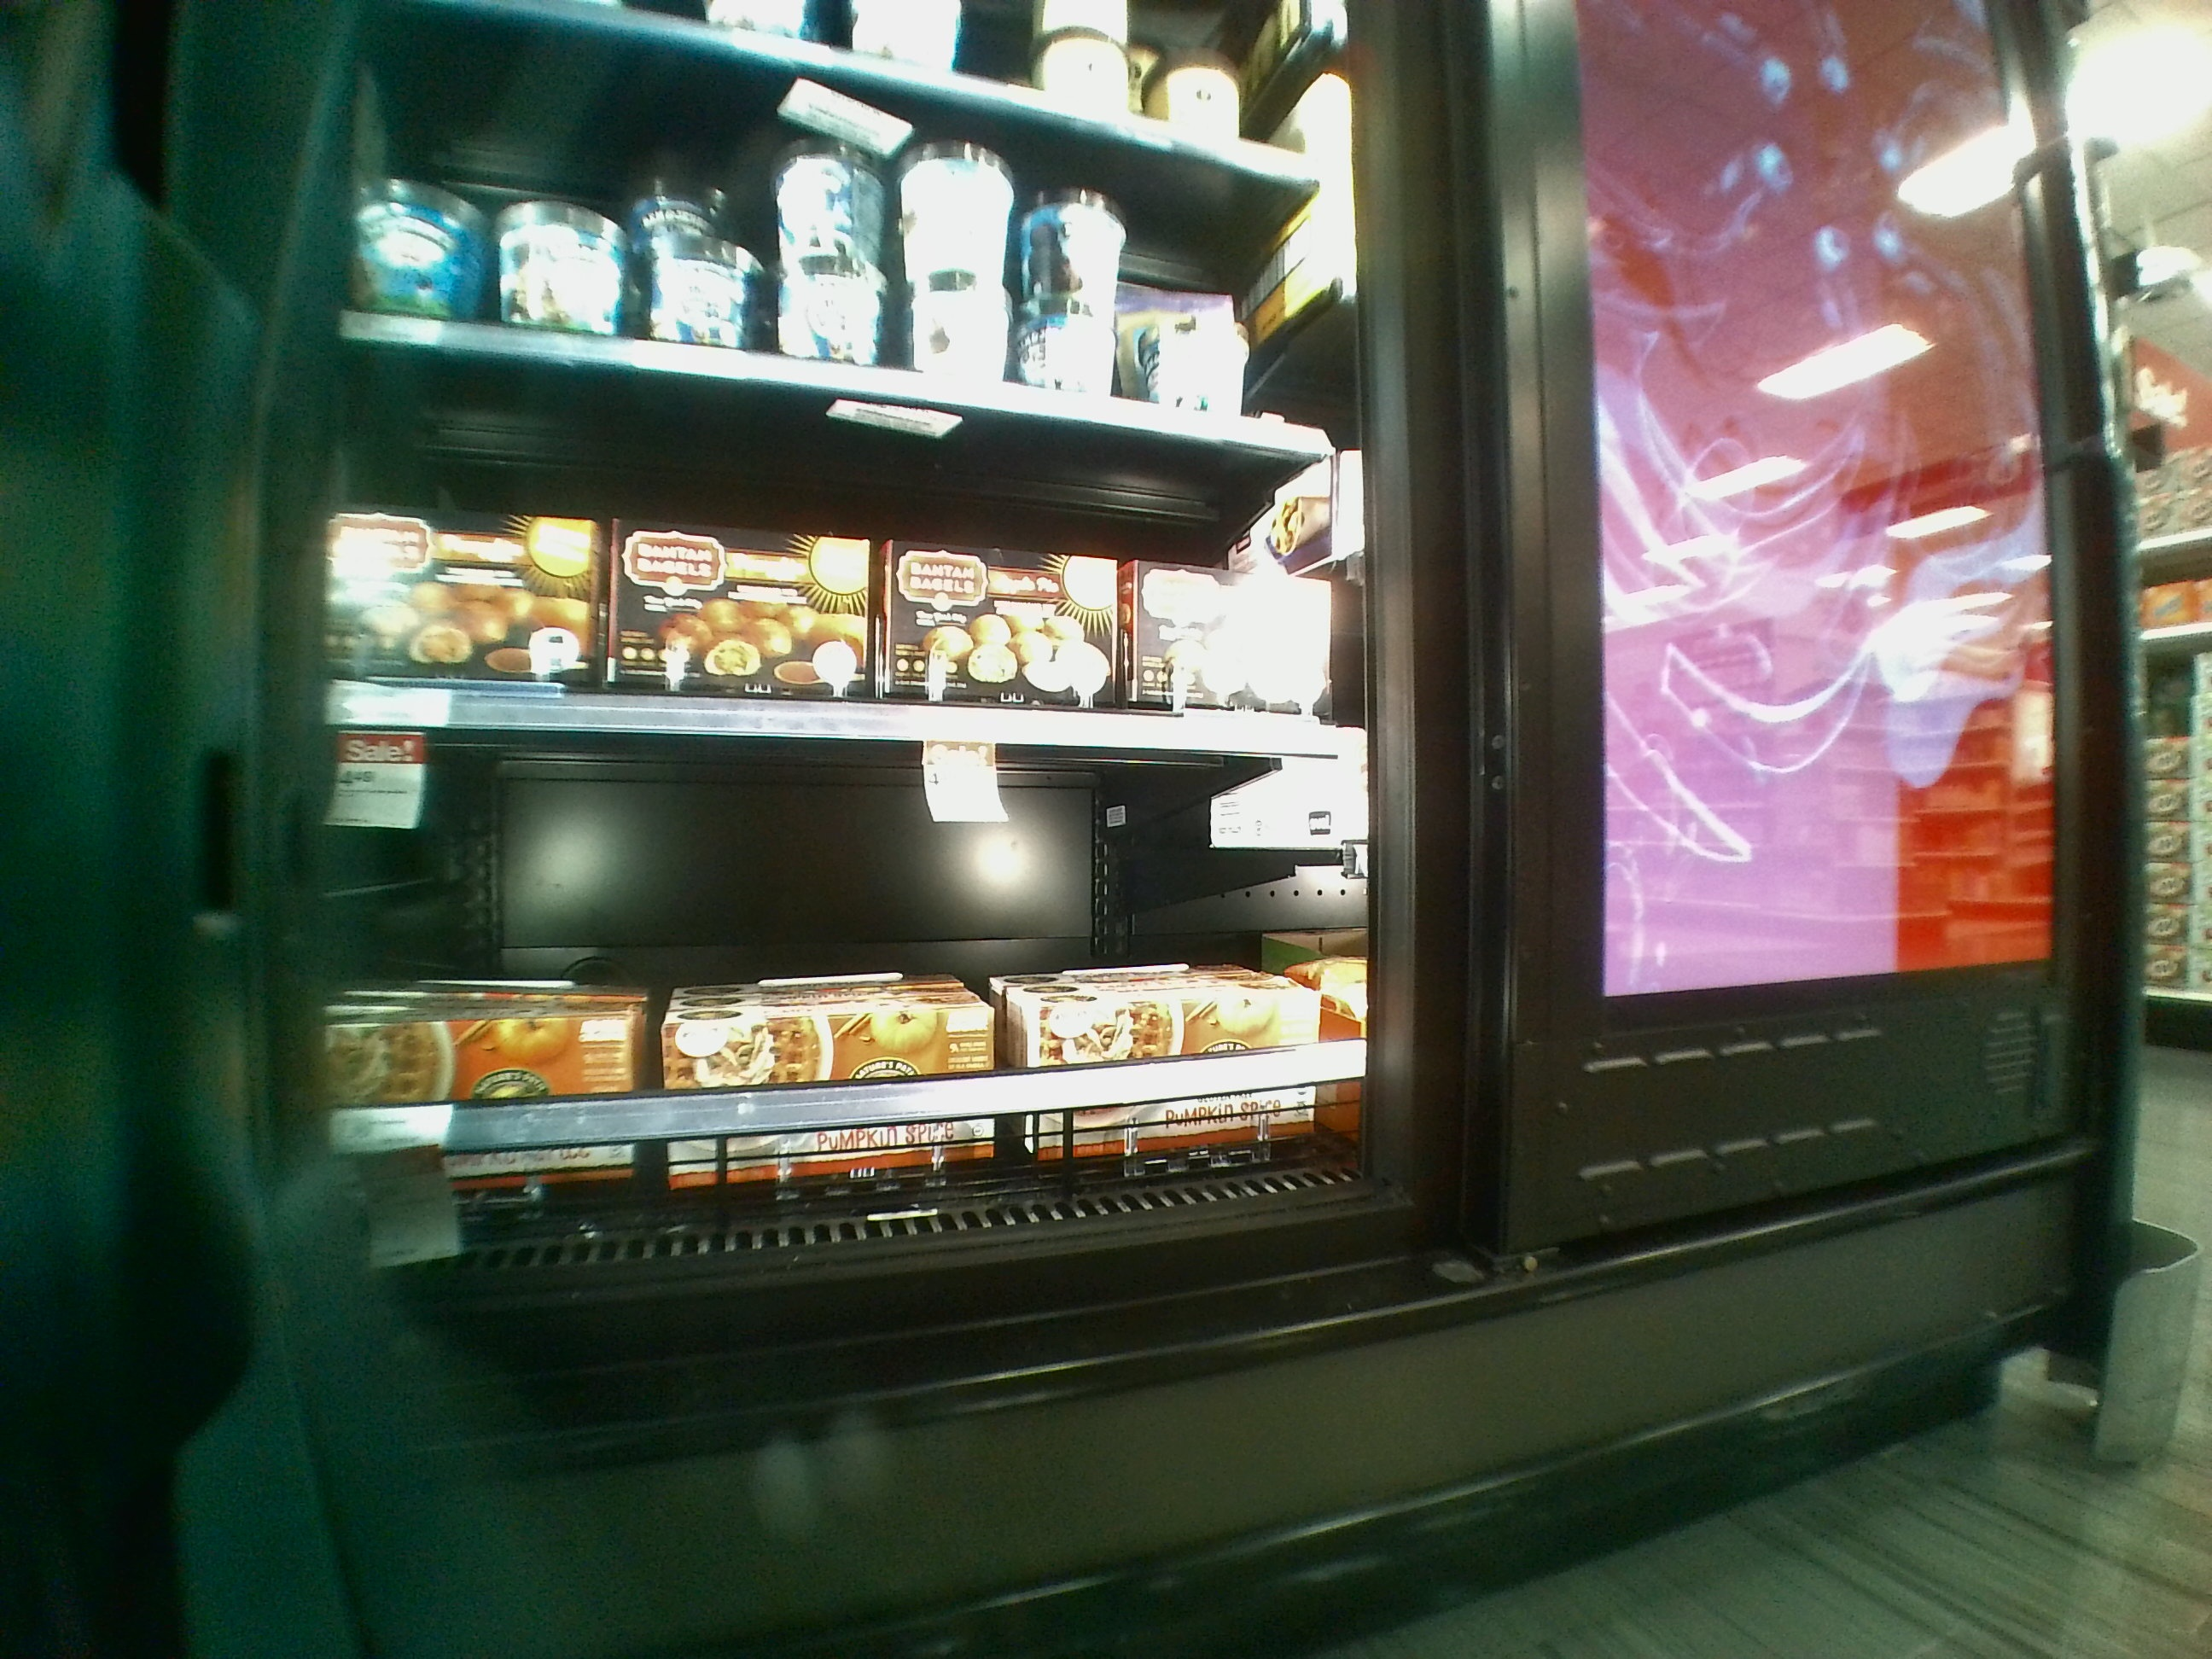shelf: (307, 721, 1428, 1249), (319, 321, 1395, 741)
